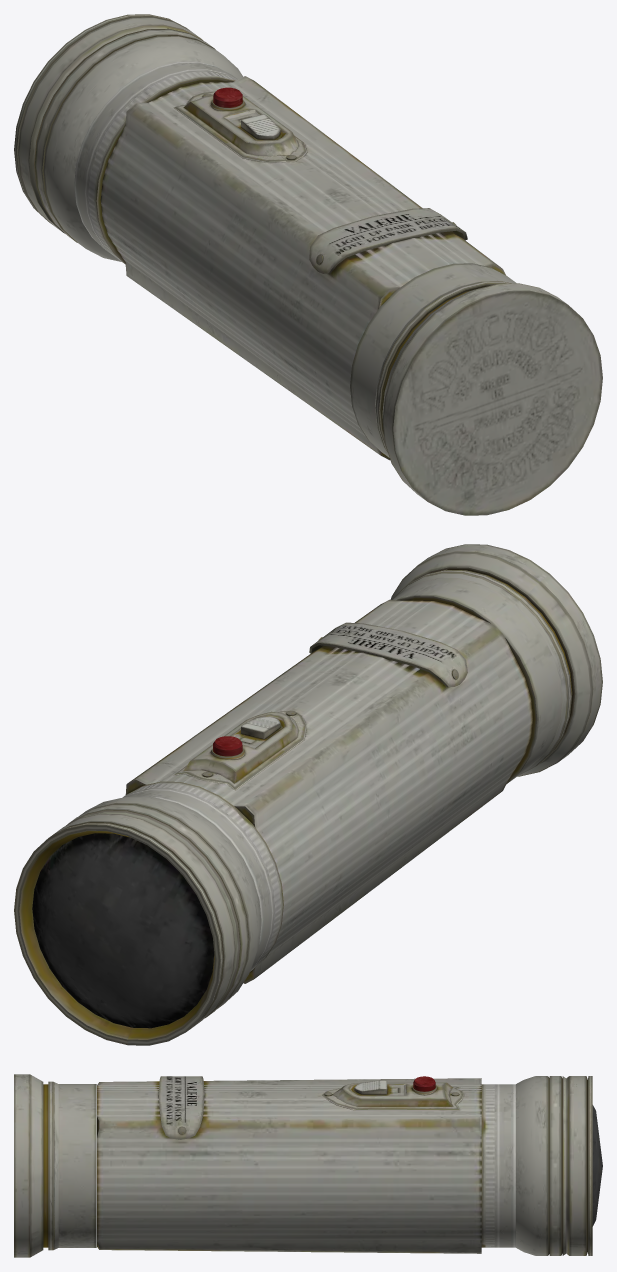
File: flashlight_hand.glb
3 renders of one model, top to bottom at view 1: azimuth 30°, elevation 25°; view 2: azimuth 150°, elevation 25°; view 3: azimuth 270°, elevation 25°, orthographic. The views are drawn at different scales.
Parts seen in each view (by area): view 1: FlashLight-Freepoly.org; view 2: FlashLight-Freepoly.org; view 3: FlashLight-Freepoly.org.
Boxes of the visible parts, x1=… form: FlashLight-Freepoly.org: x1=14, y1=14, x2=602, y2=515; FlashLight-Freepoly.org: x1=14, y1=544, x2=602, y2=1045; FlashLight-Freepoly.org: x1=14, y1=1074, x2=602, y2=1257.
Bounding box in the file's own units: 0.075 × 0.0757 × 0.24.
Materials: 1 (1 with a texture image).
